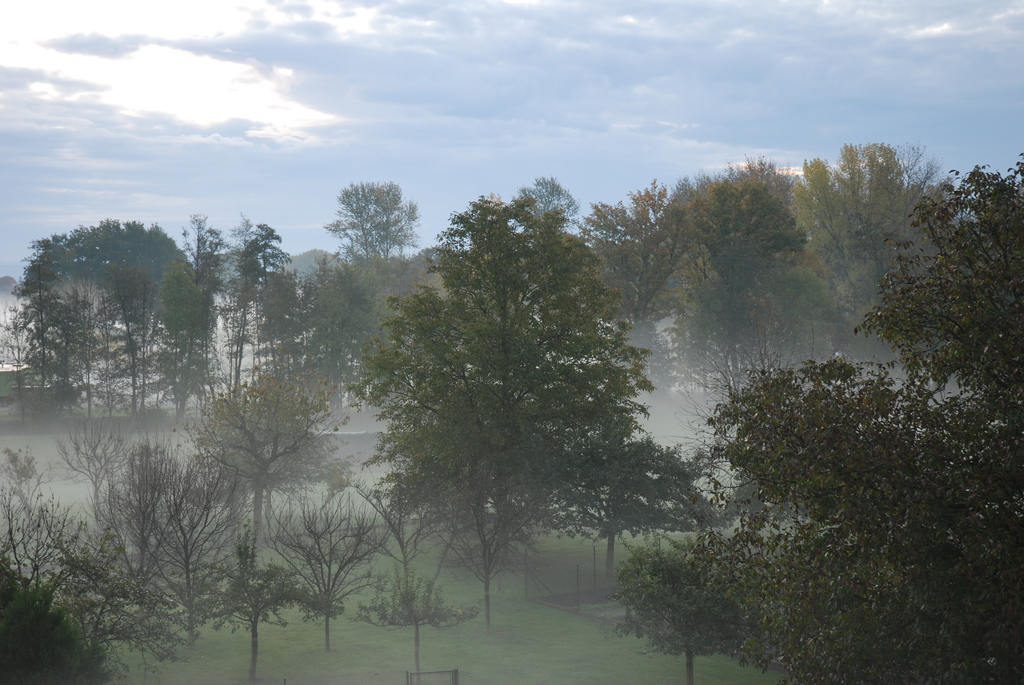Tree: (1, 137, 1023, 684)
